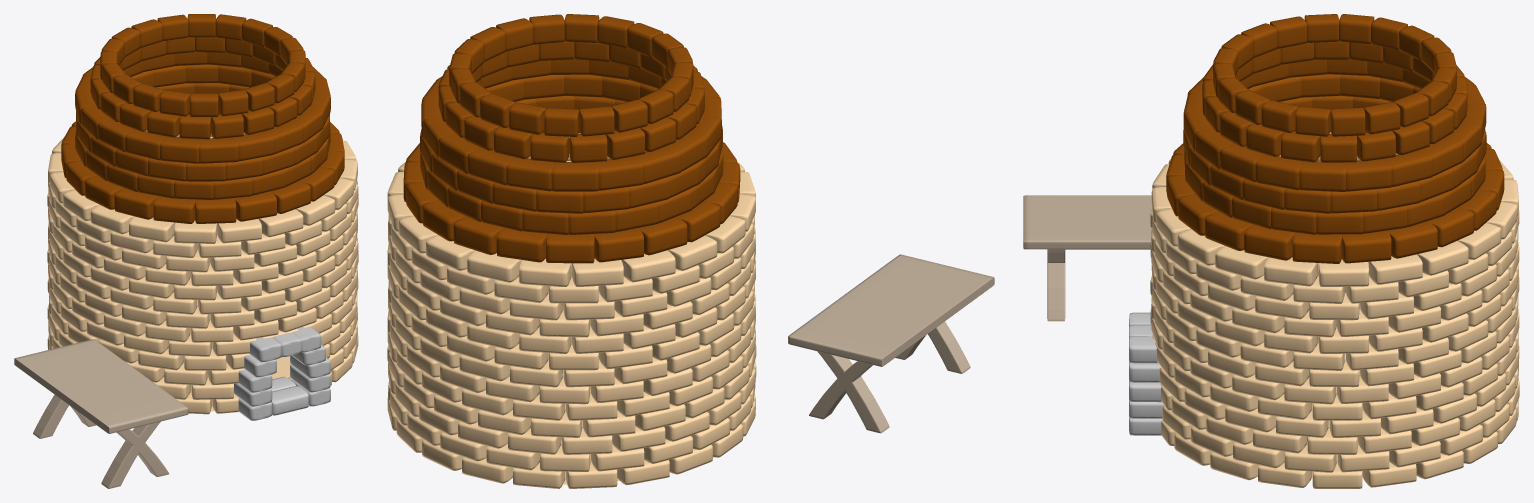
The model's file is oven.fbx.
3 renders of one model, left to right at view 1: azimuth 30°, elevation 25°; view 2: azimuth 150°, elevation 25°; view 3: azimuth 270°, elevation 25°, orthographic. The views are drawn at different scales.
Parts seen in each view (by area): view 1: Plane.002, Cube.411, Cube.284, Cube.286, Cube.287, Cube.285, Cube.360, Cube.362, Cube.361, Cube.210, Cube.209, Cube.348 (+137 smaller); view 2: Plane.002, Cube.411, Cube.280, Cube.279, Cube.278, Cube.353, Cube.352, Cube.358, Cube.281, Cube.277, Cube.214, Cube.216 (+122 smaller); view 3: Plane.002, Cube.272, Cube.271, Cube.276, Cube.269, Cube.411, Cube.365, Cube.367, Cube.366, Cube.224, Cube.219, Cube.354 (+151 smaller).
Part boxes in pixels (x1,y1,x2,y2): Plane.002: (14, 339, 188, 433); Cube.411: (33, 394, 169, 488); Cube.284: (153, 196, 195, 223); Cube.286: (195, 198, 236, 223); Cube.287: (234, 191, 276, 221); Cube.285: (114, 188, 156, 219); Cube.360: (199, 137, 238, 163); Cube.362: (160, 136, 200, 163); Cube.361: (232, 131, 274, 161); Cube.210: (129, 216, 174, 242); Cube.209: (217, 219, 261, 243); Cube.348: (125, 129, 165, 160); Plane.002: (788, 254, 994, 366); Cube.411: (809, 321, 970, 433); Cube.280: (496, 227, 547, 262); Cube.279: (594, 228, 643, 262); Cube.278: (546, 233, 594, 263); Cube.353: (551, 162, 598, 191); Cube.352: (593, 156, 643, 190); Cube.358: (506, 157, 553, 191); Cube.281: (453, 216, 503, 254); Cube.277: (638, 217, 687, 255); Cube.214: (467, 250, 521, 282); Cube.216: (621, 250, 675, 282); Plane.002: (1023, 195, 1151, 249); Cube.272: (1292, 232, 1341, 263); Cube.271: (1341, 230, 1391, 263); Cube.276: (1244, 224, 1295, 260); Cube.269: (1387, 221, 1437, 258); Cube.411: (1047, 249, 1065, 321); Cube.365: (1299, 161, 1346, 191); Cube.367: (1343, 158, 1391, 191); Cube.366: (1255, 154, 1302, 190); Cube.224: (1368, 254, 1422, 284); Cube.219: (1264, 257, 1317, 286); Cube.354: (1384, 150, 1432, 186).
Size of the model in its own units: 193 by 151 by 195.
